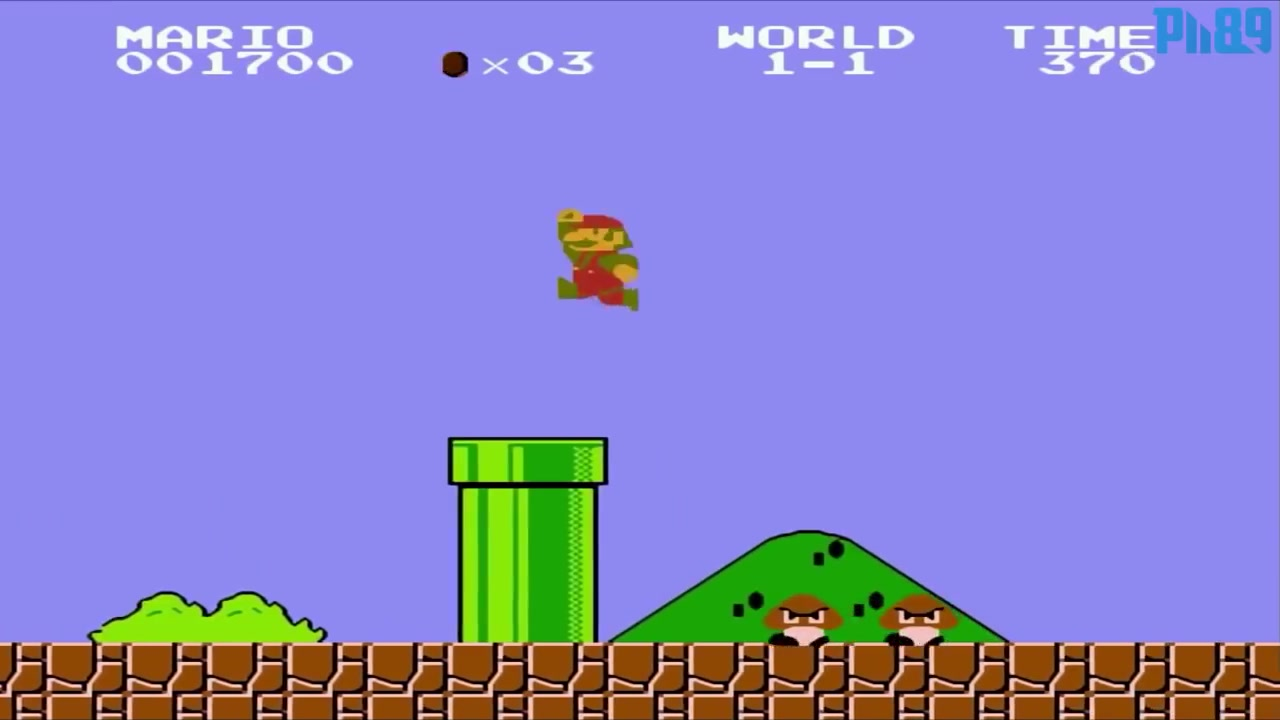mario: (547, 203, 648, 316)
